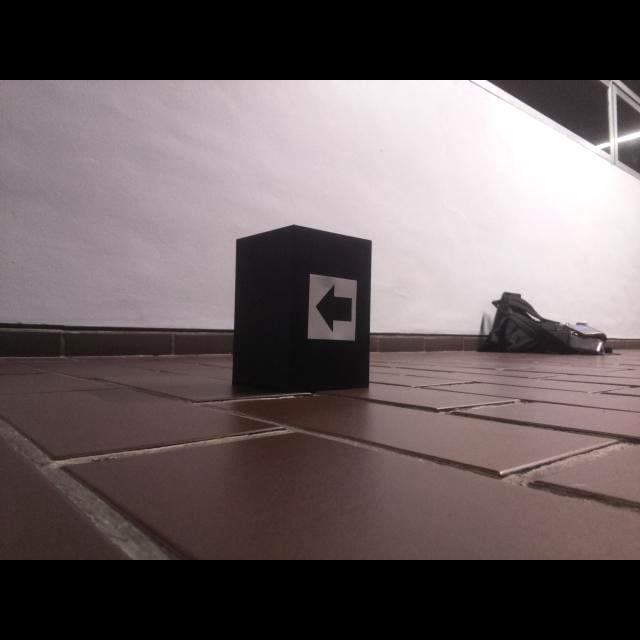LEFT: (315, 283, 352, 334)
